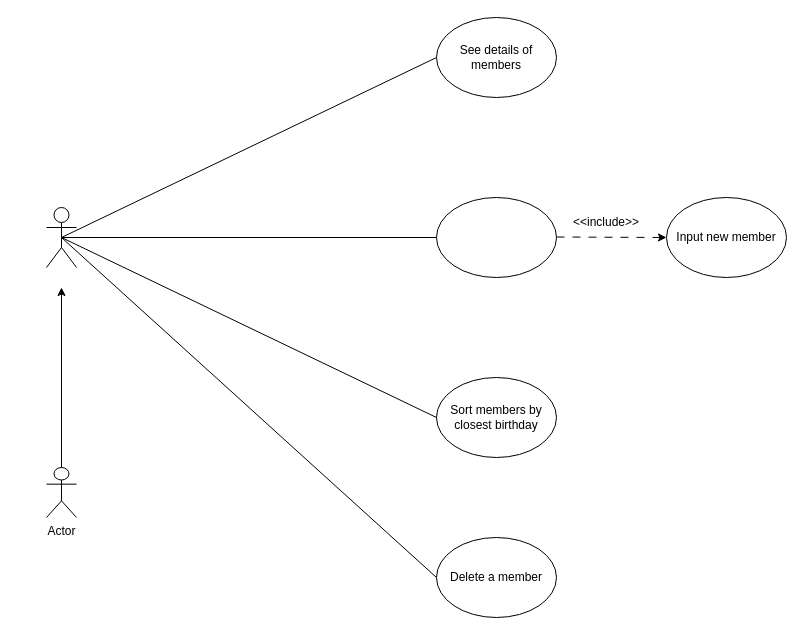
Image size: 804x635. Some labels were removed from this diagram. The box of each missing label's shape, as (x1, y1, x2, y2) in pixels:
Add a new member: (436, 196, 556, 278)
Registered actor: (46, 206, 76, 268)
